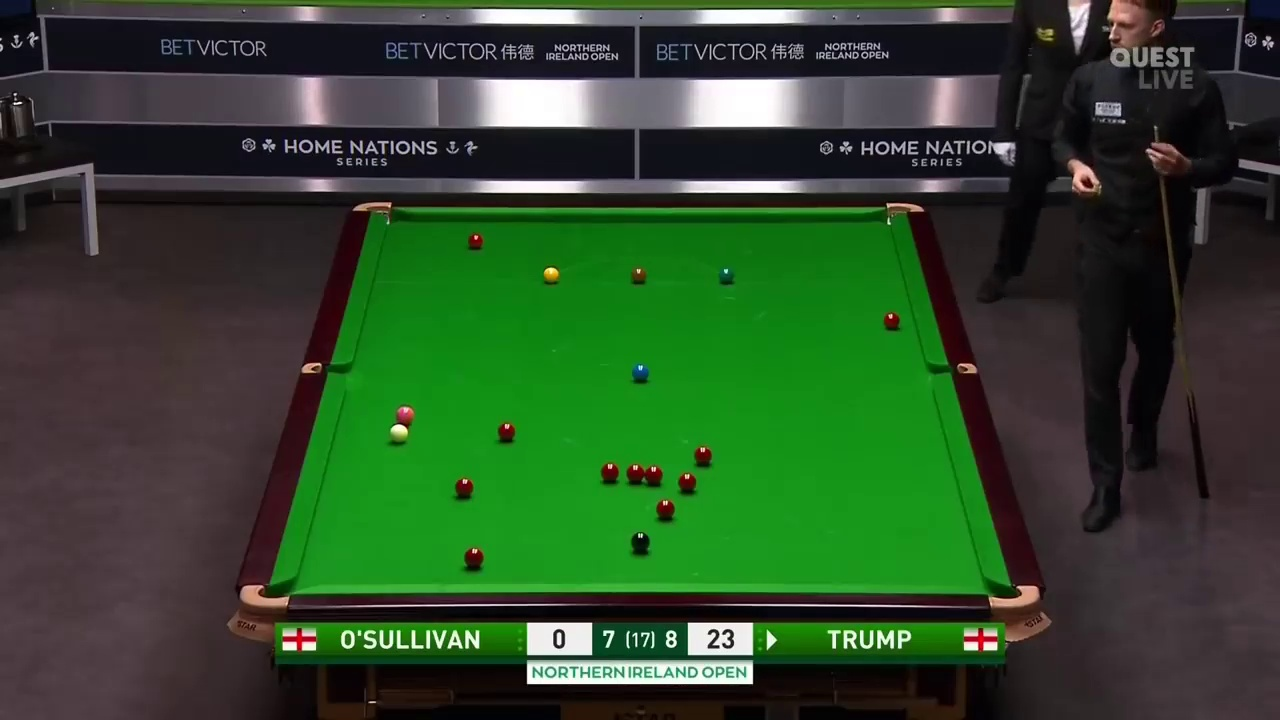ball: (453, 474, 474, 499), (494, 421, 516, 444), (388, 423, 410, 443), (654, 498, 674, 519), (678, 471, 697, 493), (691, 444, 711, 464), (463, 546, 484, 565), (630, 531, 649, 550), (633, 363, 651, 383), (466, 231, 484, 250), (882, 309, 899, 328), (541, 265, 561, 281), (719, 265, 736, 282), (629, 266, 646, 282)
